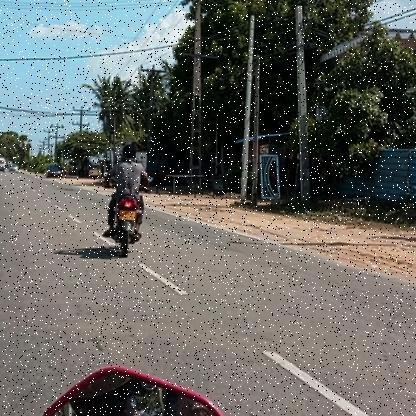motorcycle: (100, 194, 150, 260)
